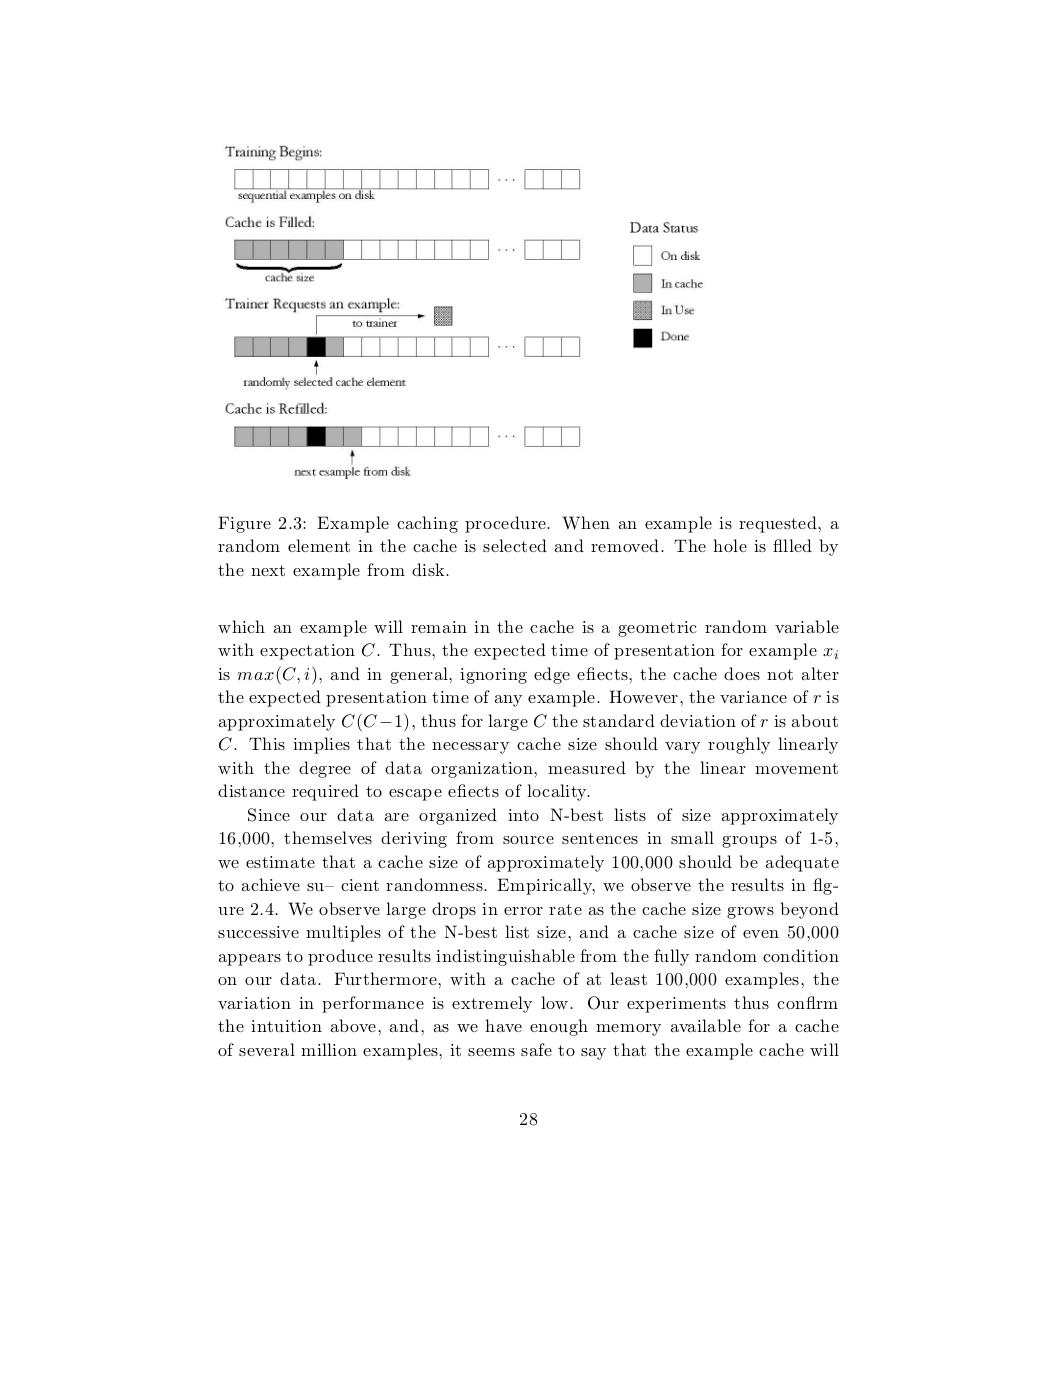figure: (224, 145, 702, 478)
